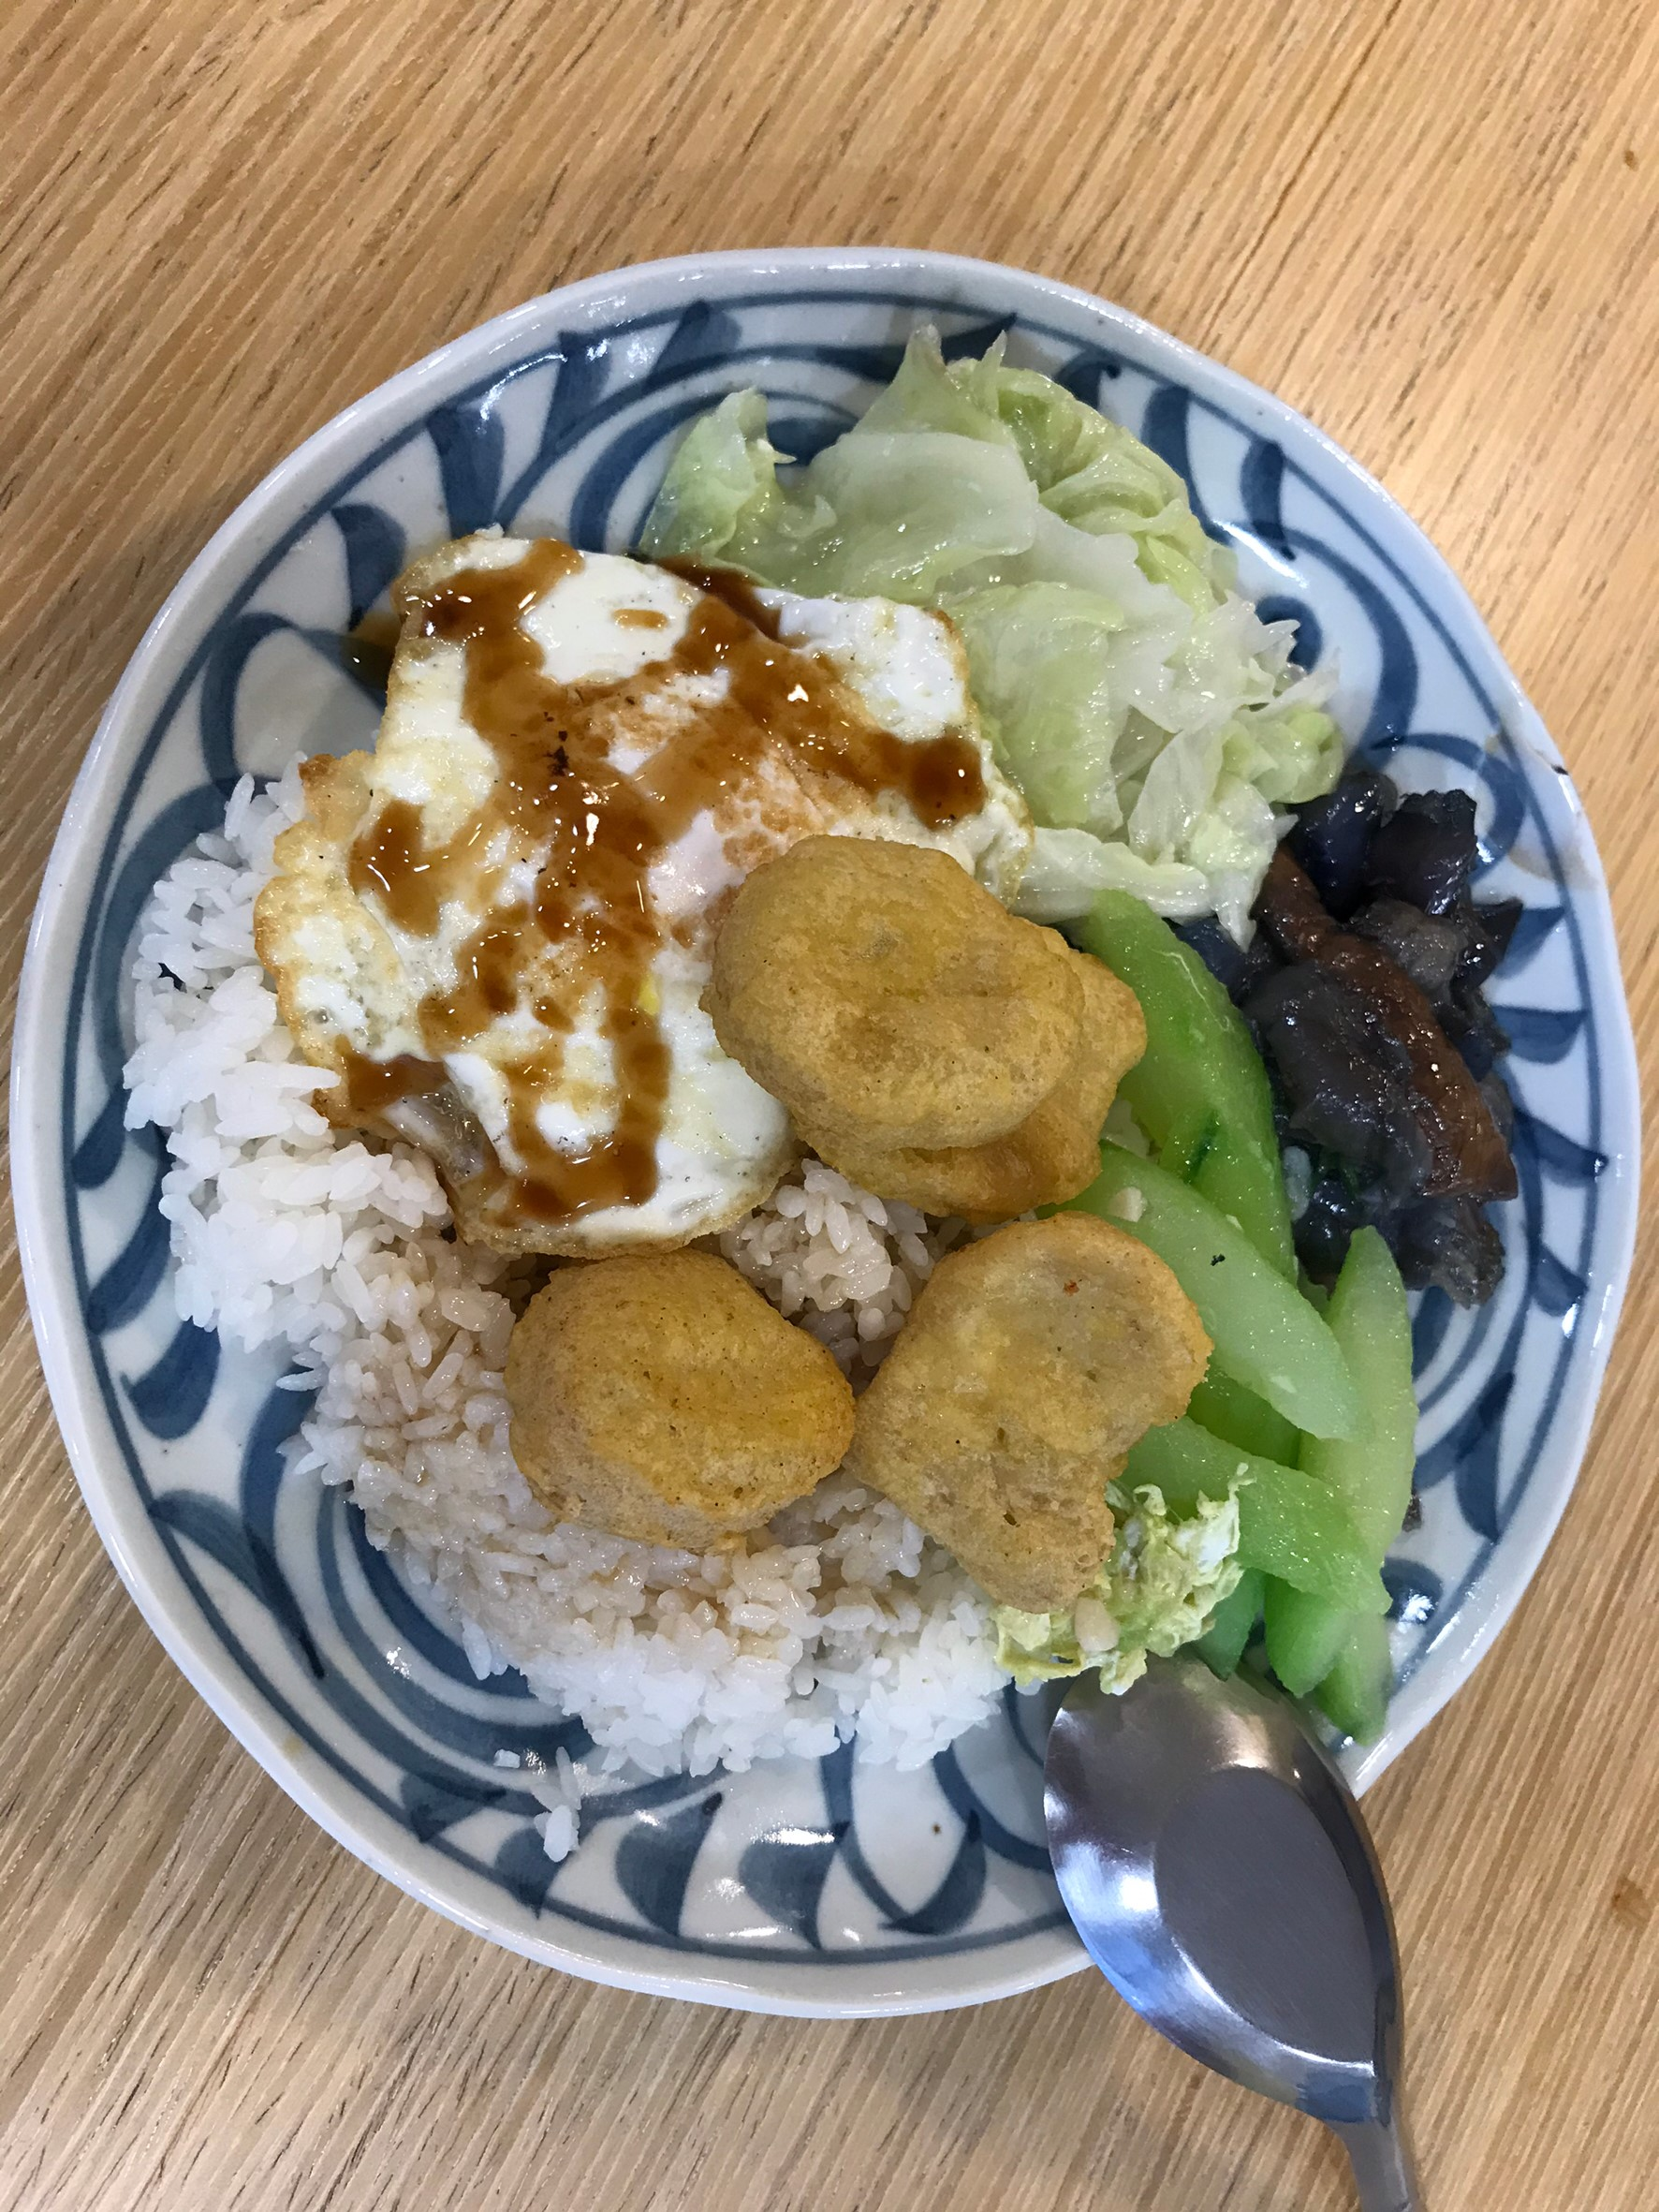chicken_nuggets: (530, 849, 1175, 1569)
chinese_cabbage: (945, 443, 1260, 863)
fried_eggs: (308, 560, 774, 1257)
rice: (185, 1105, 521, 1581), (458, 1544, 990, 1780)
